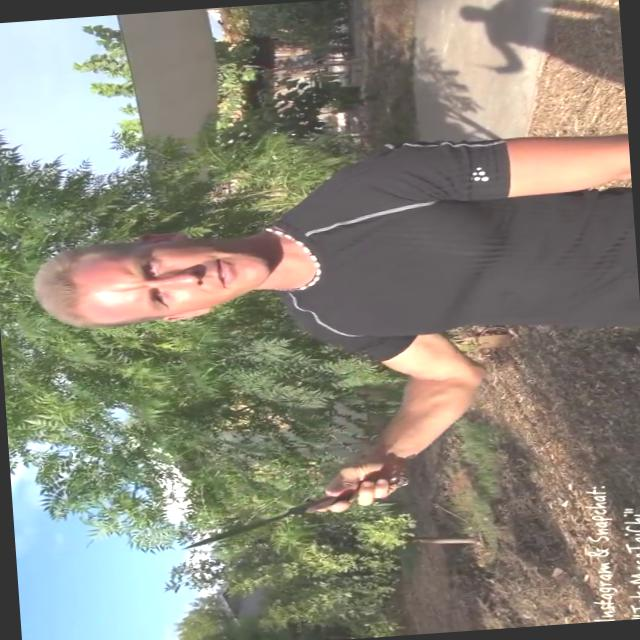knife: (172, 471, 407, 554)
